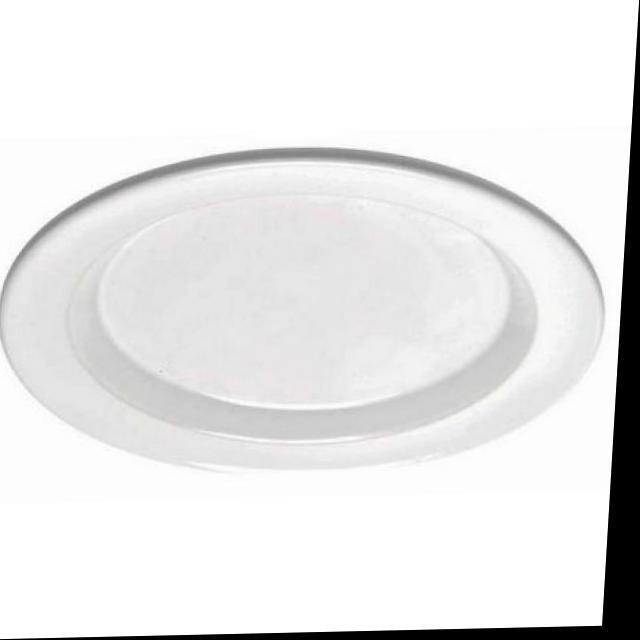plate: (0, 137, 628, 496)
